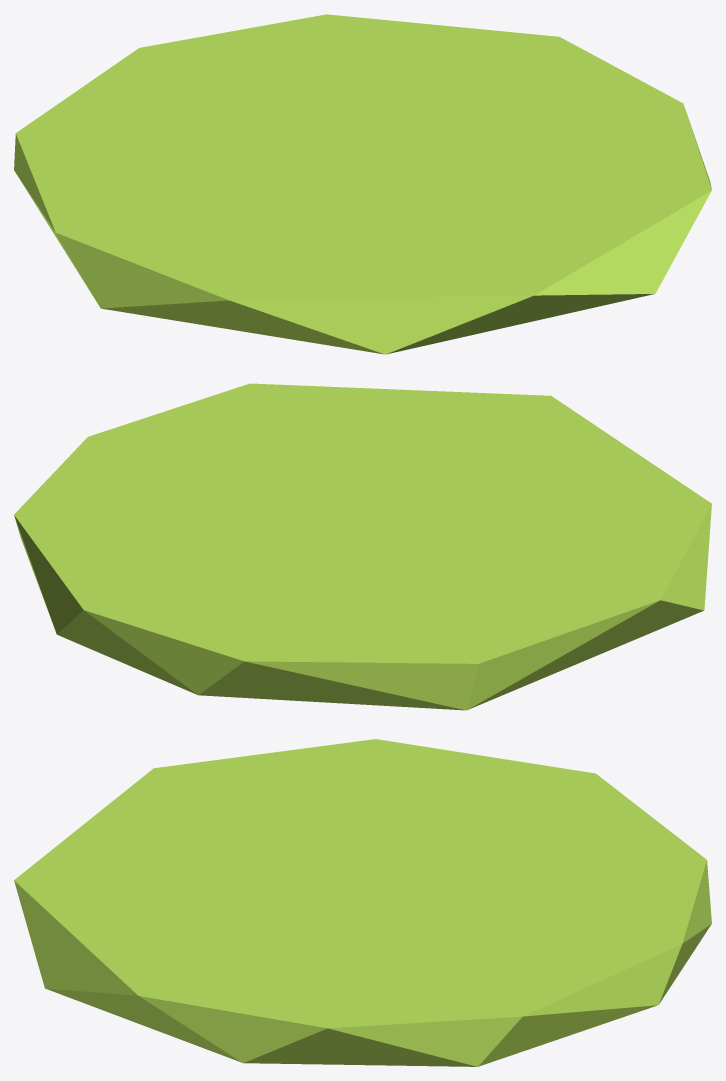
The model's file is ur10_e_link_3_coll_2.dae.
3 renders of one model, top to bottom at view 1: azimuth 30°, elevation 25°; view 2: azimuth 150°, elevation 25°; view 3: azimuth 270°, elevation 25°, orthographic.
Parts seen in each view (by area): view 1: node; view 2: node; view 3: node.
Boxes of the visible parts, bbox=[...] form: node: bbox=[14, 14, 711, 354]; node: bbox=[14, 383, 711, 710]; node: bbox=[14, 739, 711, 1066].
Bounding box in the file's own units: 0.0904 × 0.0062 × 0.0922.
